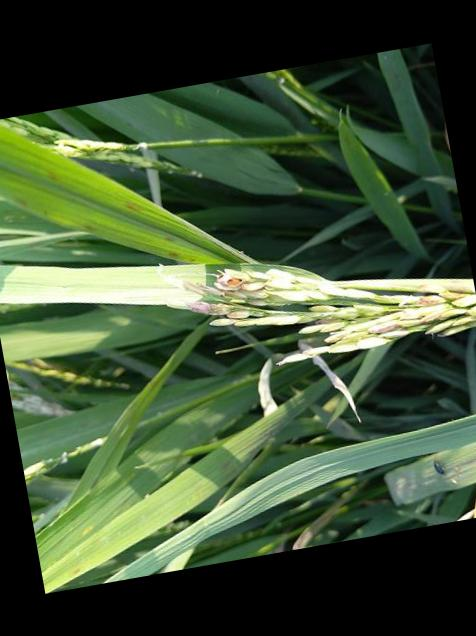Panicle Blight: (298, 278, 476, 355), (189, 266, 291, 326), (310, 303, 359, 343)
